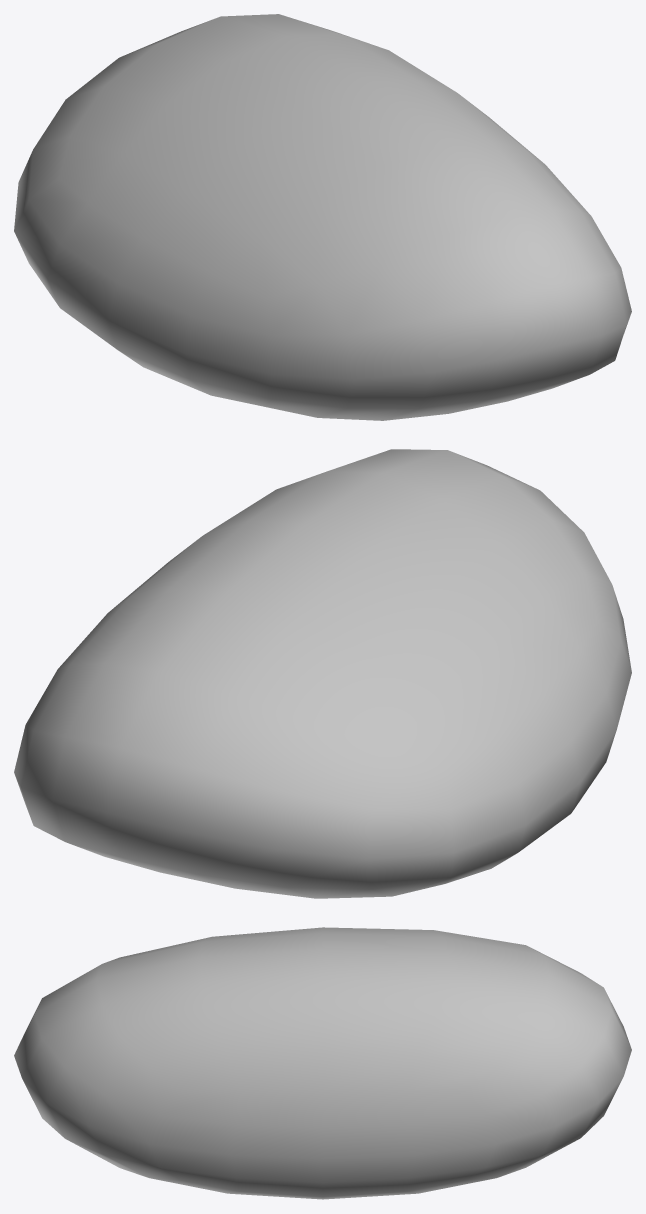
The model's file is Town_4_Stone_2.glb.
The picture shows the model from 3 angles, top to bottom: view 1: azimuth 30°, elevation 25°; view 2: azimuth 150°, elevation 25°; view 3: azimuth 270°, elevation 25°; orthographic projection. The views are drawn at different scales.
Parts seen in each view (by area): view 1: Town_4_Stone_2; view 2: Town_4_Stone_2; view 3: Town_4_Stone_2.
Part boxes in pixels (x1=…): Town_4_Stone_2: x1=14, y1=14, x2=631, y2=420; Town_4_Stone_2: x1=14, y1=449, x2=631, y2=898; Town_4_Stone_2: x1=14, y1=927, x2=631, y2=1199.
Size of the model in its own units: 1.01 by 0.5753 by 1.56.
1 material, 1 textured.
